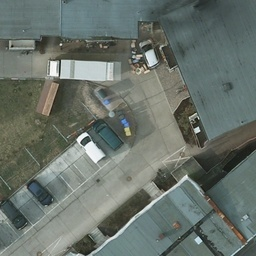car: (0, 197, 31, 231), (138, 38, 161, 70), (28, 179, 54, 207)
van: (92, 119, 126, 150), (76, 133, 107, 166)
